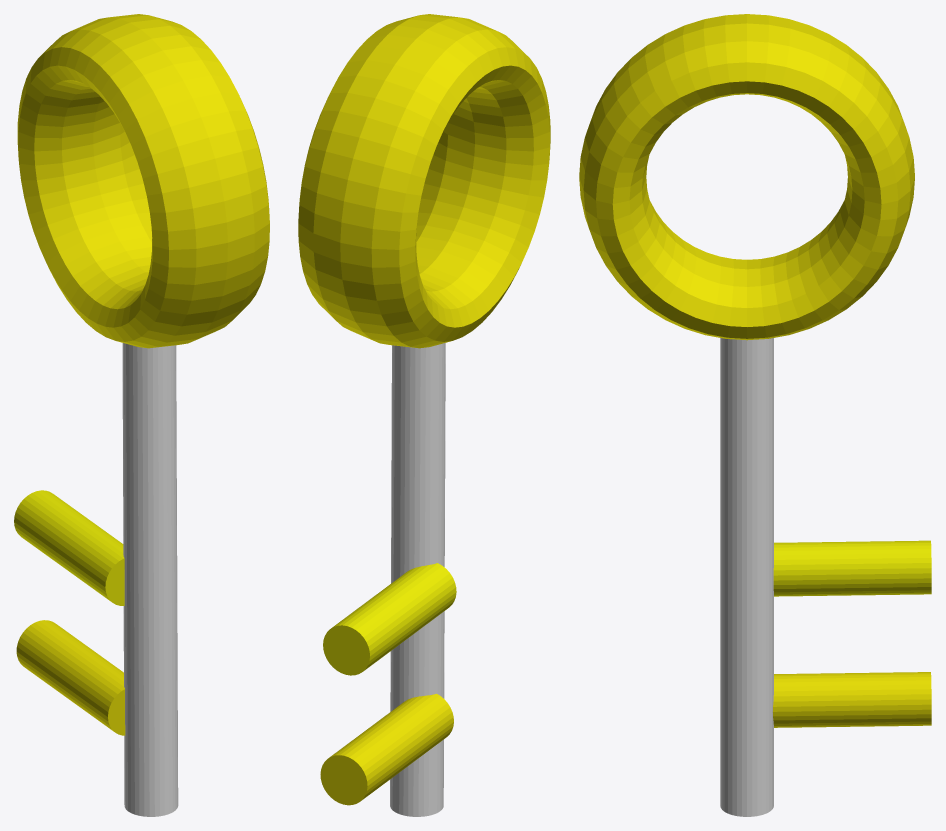
The model's file is key2.gltf.
3 renders of one model, left to right at view 1: azimuth 30°, elevation 25°; view 2: azimuth 150°, elevation 25°; view 3: azimuth 270°, elevation 25°, orthographic.
Parts seen in each view (by area): view 1: トーラス, 円柱, 円柱.001, 円柱.002; view 2: トーラス, 円柱, 円柱.001, 円柱.002; view 3: トーラス, 円柱, 円柱.001, 円柱.002.
Part boxes in pixels (x1,y1,x2,y2): トーラス: (17, 14, 269, 348); 円柱: (122, 343, 178, 816); 円柱.001: (14, 490, 124, 605); 円柱.002: (16, 620, 125, 735); トーラス: (298, 14, 550, 348); 円柱: (390, 343, 445, 816); 円柱.001: (323, 563, 456, 675); 円柱.002: (320, 693, 453, 805); トーラス: (579, 14, 914, 340); 円柱: (720, 338, 773, 816); 円柱.001: (773, 540, 931, 596); 円柱.002: (773, 672, 931, 727).
Size of the model in its own units: 0.5202 by 3.19 by 1.31.
